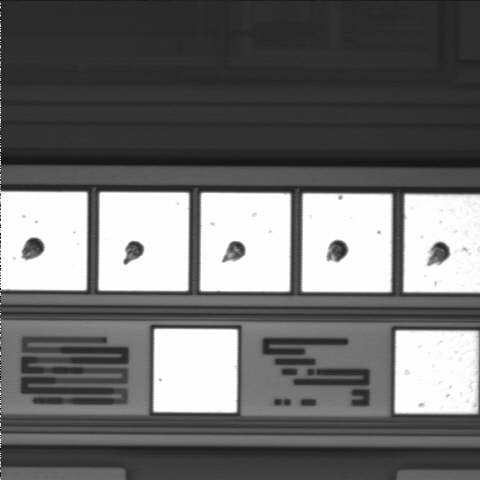pad: (99, 192, 189, 291), (200, 193, 290, 292), (302, 194, 392, 292), (154, 329, 237, 412), (395, 331, 478, 413)
